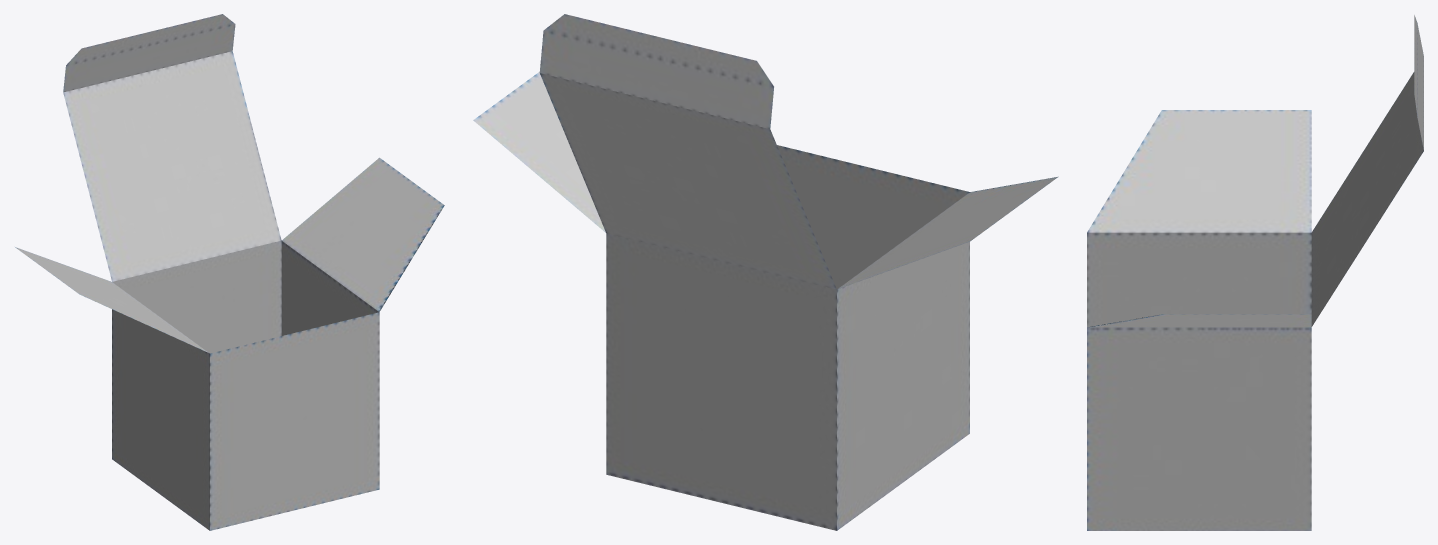
Rendered from sandbox.glb.
3 renders of one model, left to right at view 1: azimuth 30°, elevation 25°; view 2: azimuth 150°, elevation 25°; view 3: azimuth 270°, elevation 25°, orthographic. The views are drawn at different scales.
Visible parts, largest first — view 1: Plane; view 2: Plane; view 3: Plane.
Part boxes in pixels (left/top/right/bottom): Plane: left=15, top=14, right=444, bottom=530; Plane: left=473, top=14, right=1058, bottom=530; Plane: left=1087, top=15, right=1423, bottom=530.
Size of the model in its own units: 1.97 by 1.93 by 1.37.
1 material, 1 textured.
